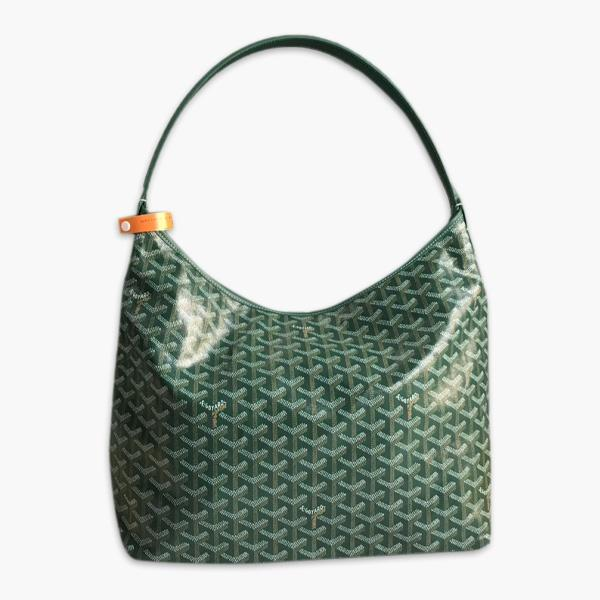GOYARD: (110, 228, 493, 564)
